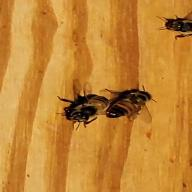Bee: (54, 90, 105, 134), (104, 84, 164, 120)
